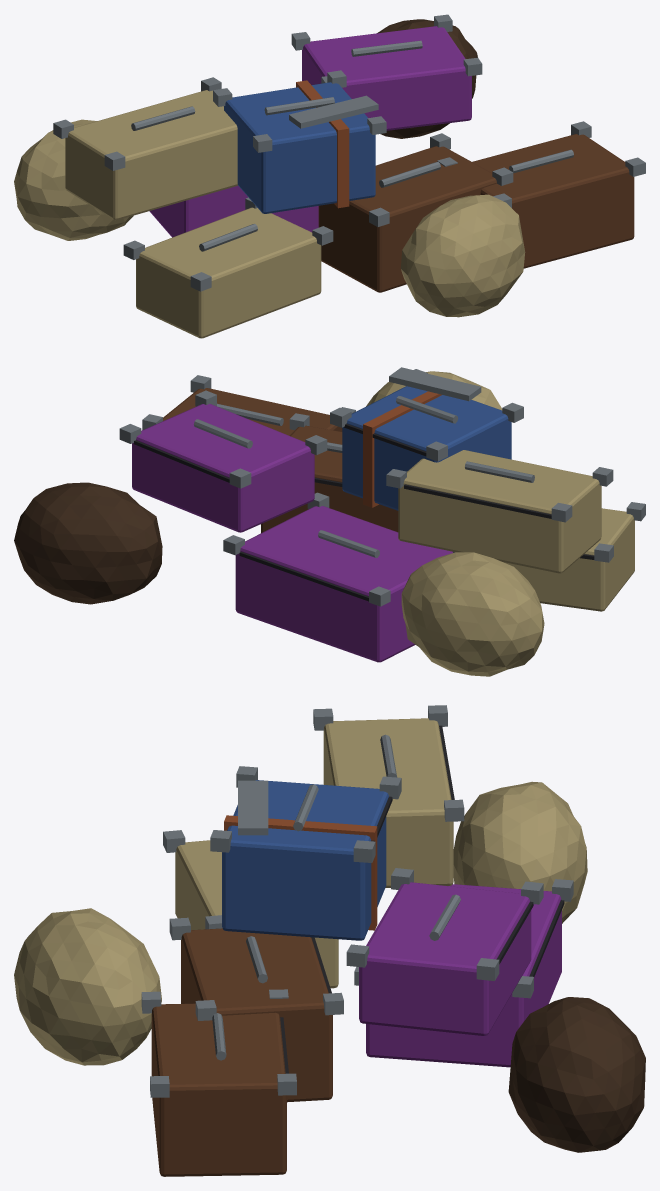
File: luggage_pile.glb
3 renders of one model, top to bottom at view 1: azimuth 30°, elevation 25°; view 2: azimuth 150°, elevation 25°; view 3: azimuth 270°, elevation 25°, orthographic. The views are drawn at different scales.
Visible parts, largest first — view 1: luggage_pile; view 2: luggage_pile; view 3: luggage_pile.
Boxes of the visible parts, x1=… form: luggage_pile: x1=14, y1=14, x2=645, y2=338; luggage_pile: x1=14, y1=367, x2=645, y2=676; luggage_pile: x1=14, y1=705, x2=645, y2=1176.
Size of the model in its own units: 1.86 by 0.6247 by 1.68.
2 materials, 2 textured.
